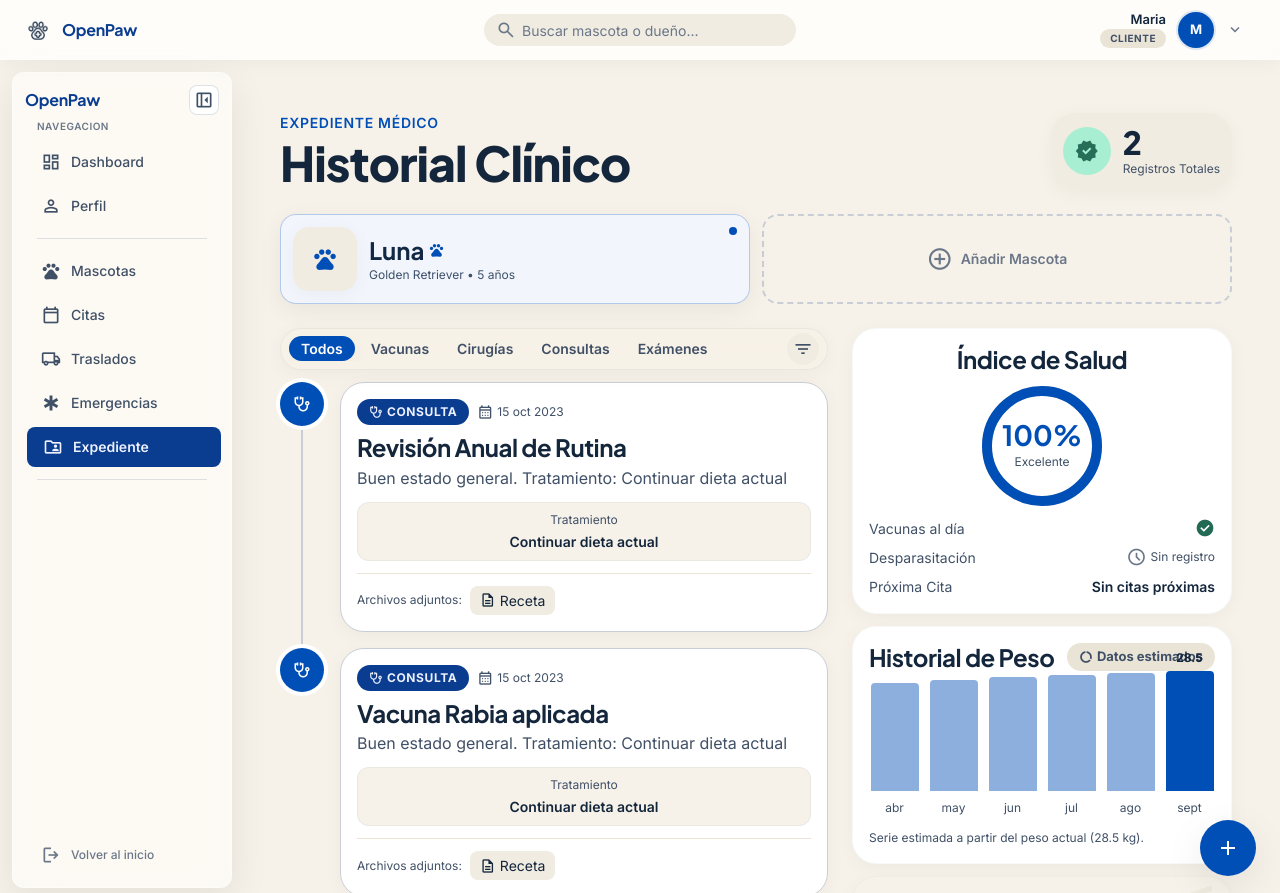
Test: ExpedientePage - expediente médico (T29) › filtro Vacunas detecta una vacuna registrada como consulta (M2)
The width and height of the screenshot is (1280, 893).
Expected: the heading "Revisión Anual de Rutina" is shown, [357,432,626,462]
Click the button "Vacunas" at (400, 349), box [359,336,441,361]
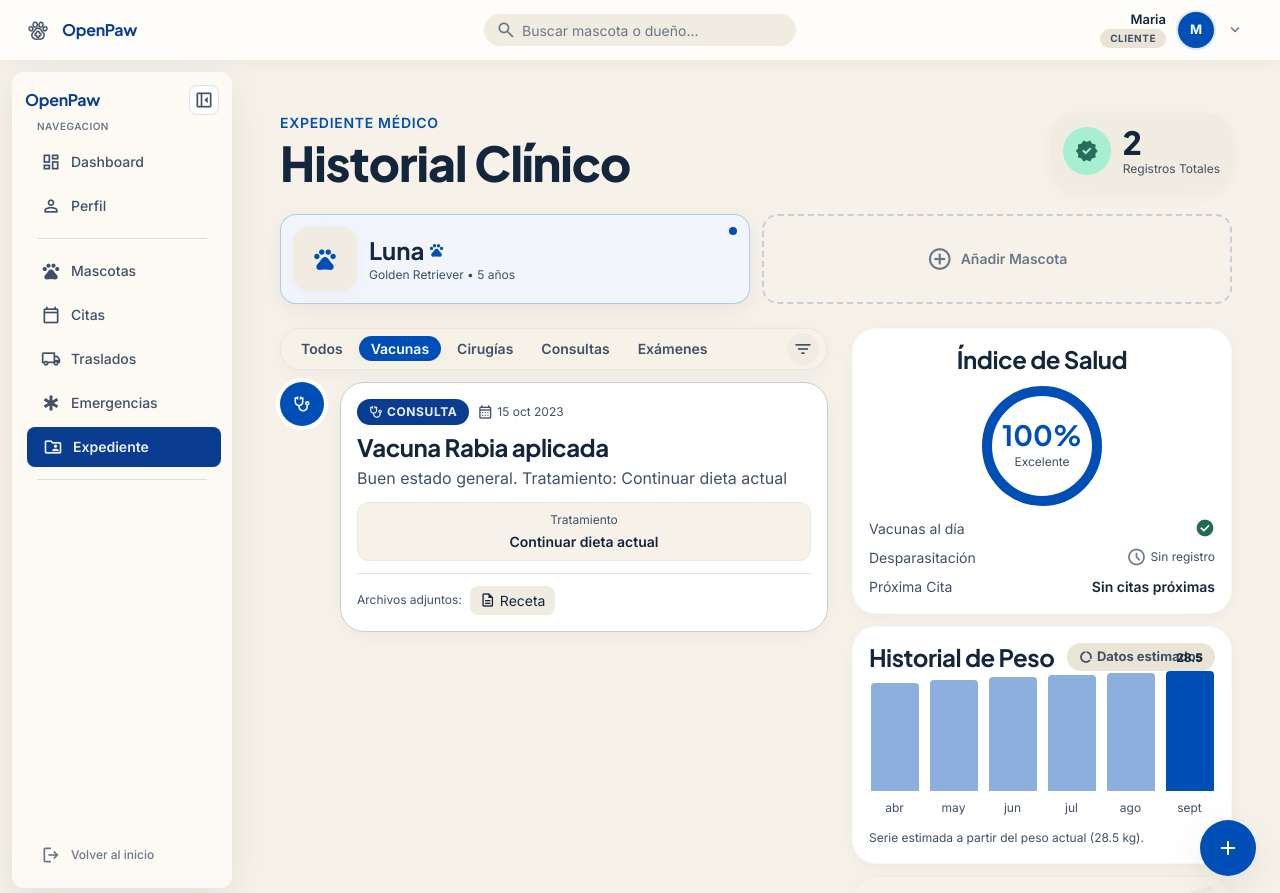
Expected: the heading "Vacuna Rabia aplicada" is shown, [357,432,609,462]
Now the heading "Revisión Anual de Rutina" is gone
